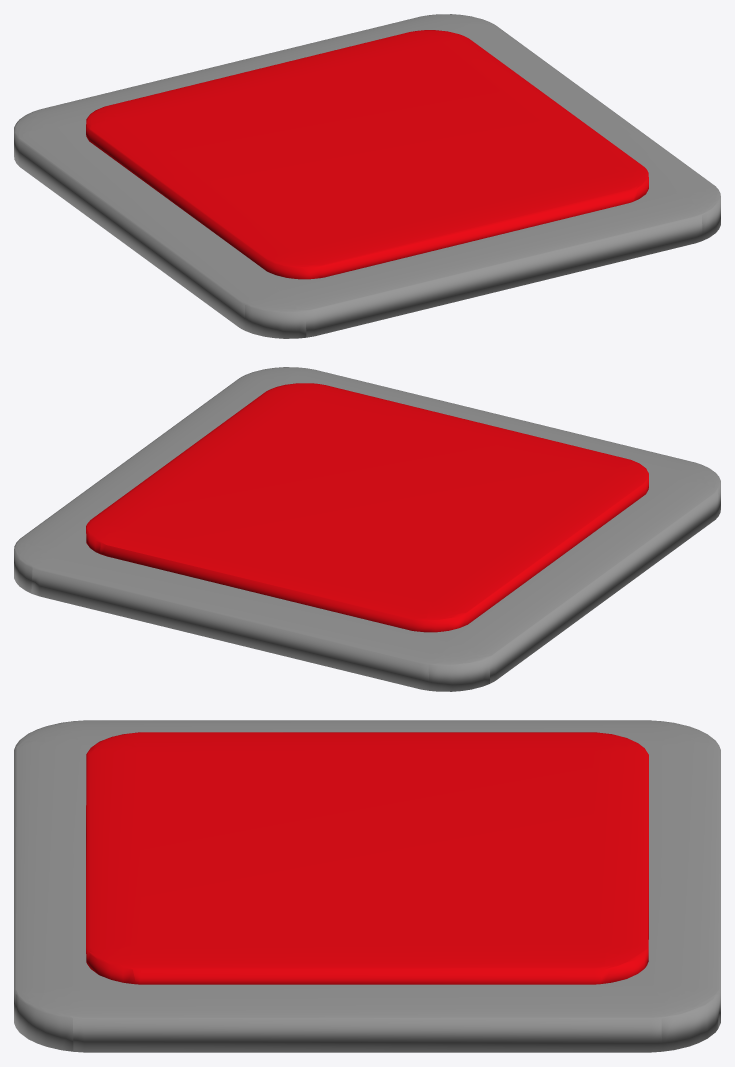
File: botao1.fbx
3 renders of one model, top to bottom at view 1: azimuth 30°, elevation 25°; view 2: azimuth 150°, elevation 25°; view 3: azimuth 270°, elevation 25°, orthographic. The views are drawn at different scales.
Visible parts, largest first — view 1: Cube.001, Cube; view 2: Cube.001, Cube; view 3: Cube.001, Cube.
Part boxes in pixels (x1=…): Cube.001: x1=86, y1=30, x2=648, y2=279; Cube: x1=14, y1=14, x2=720, y2=338; Cube.001: x1=86, y1=383, x2=648, y2=632; Cube: x1=14, y1=367, x2=720, y2=691; Cube.001: x1=86, y1=732, x2=648, y2=984; Cube: x1=14, y1=720, x2=720, y2=1052.
Bounding box in the file's own units: 381 × 35.21 × 381.
